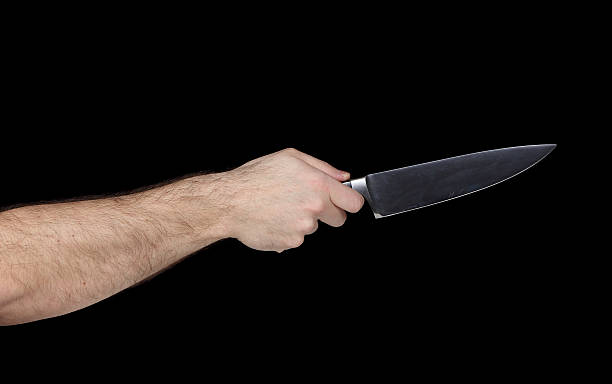knife: (340, 142, 559, 220)
